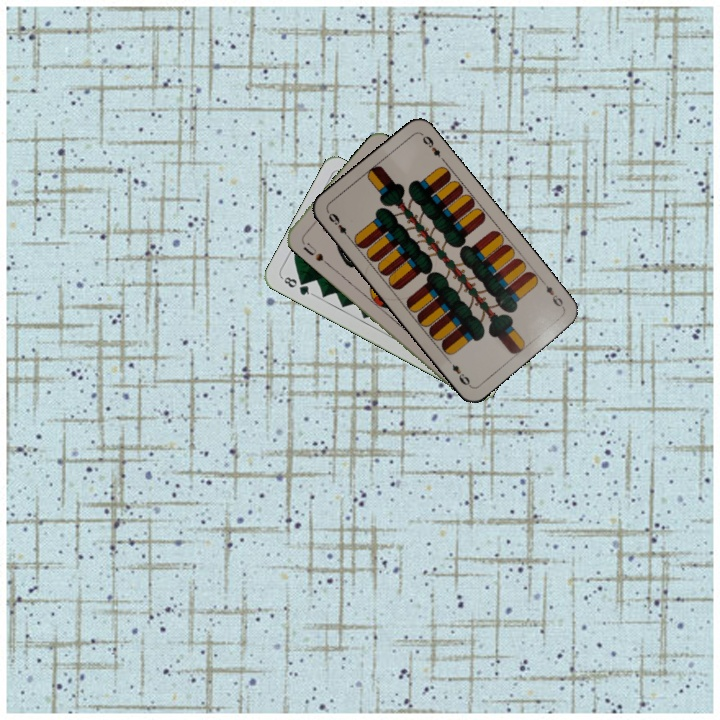E9: (537, 277, 567, 311), (324, 208, 353, 242)
G8: (278, 273, 316, 298)
SU: (299, 239, 326, 264)
